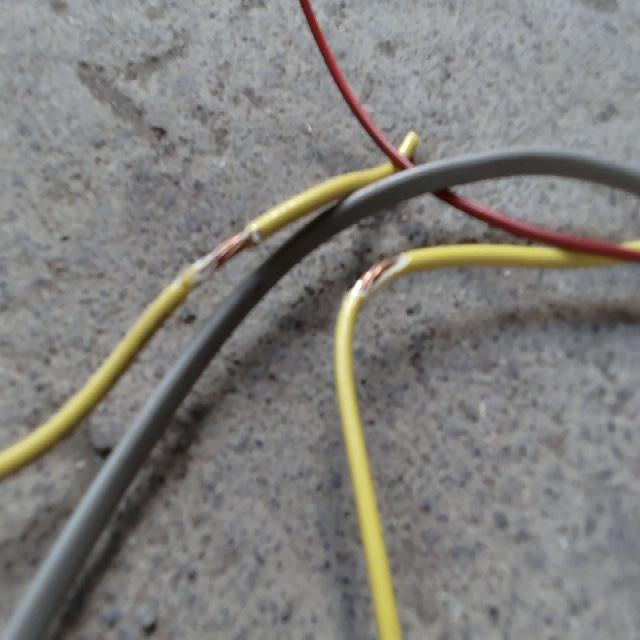-: (192, 223, 255, 280), (354, 252, 404, 288)
